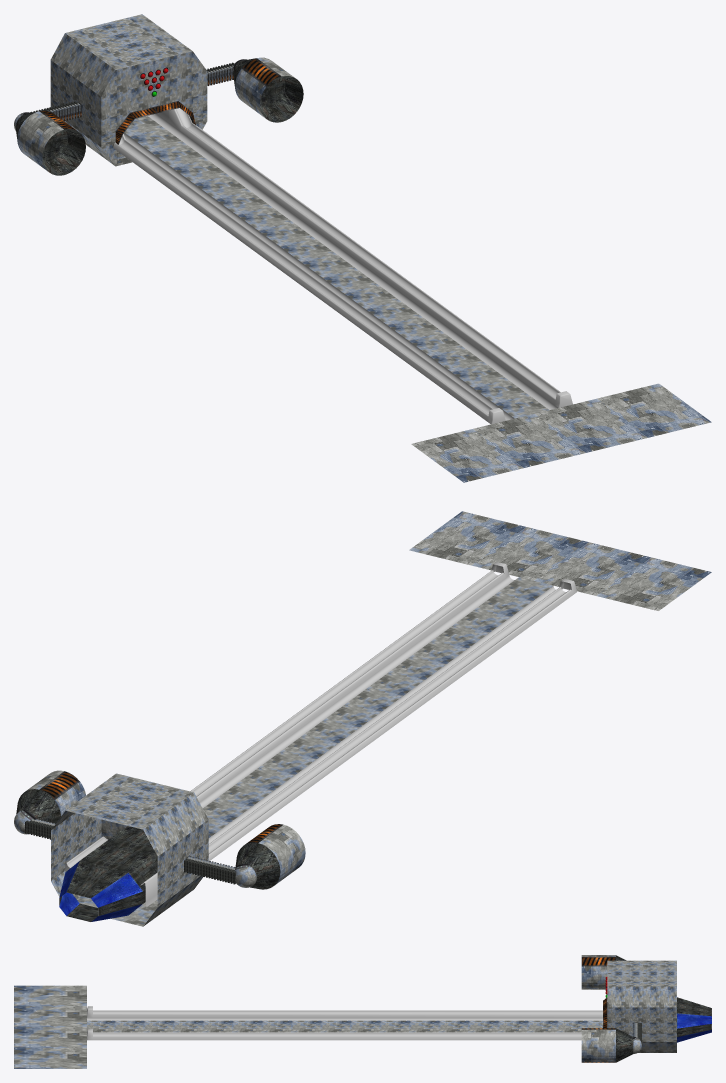
File: Alley_Cosmic.fbx
The picture shows the model from 3 angles, top to bottom: view 1: azimuth 30°, elevation 25°; view 2: azimuth 150°, elevation 25°; view 3: azimuth 270°, elevation 25°; orthographic projection. The views are drawn at different scales.
Parts seen in each view (by area): view 1: Ship, lane, approach, ALLEYframe2xtrareturns, returnchannelr, Engine, gutterr, gutterl, Gate; view 2: Ship, approach, lane, returnchannelr, ALLEYframe2xtrareturns, Engine, gutterr, gutterl, Gate; view 3: Ship, lane, approach, ALLEYframe2xtrareturns, returnchannelr, Engine, gutterl, gutterr.
Boxes of the visible parts, bbox=[...] form: Ship: bbox=[50, 14, 207, 166]; lane: bbox=[124, 116, 549, 418]; approach: bbox=[411, 383, 711, 482]; ALLEYframe2xtrareturns: bbox=[156, 108, 572, 407]; returnchannelr: bbox=[113, 134, 505, 424]; Engine: bbox=[14, 57, 303, 175]; gutterr: bbox=[147, 113, 557, 409]; gutterl: bbox=[123, 133, 514, 420]; Gate: bbox=[30, 62, 234, 121]; Ship: bbox=[51, 773, 208, 926]; approach: bbox=[409, 511, 711, 610]; lane: bbox=[203, 577, 553, 837]; returnchannelr: bbox=[140, 578, 576, 906]; ALLEYframe2xtrareturns: bbox=[65, 562, 509, 871]; Engine: bbox=[14, 770, 305, 889]; gutterr: bbox=[199, 575, 514, 808]; gutterl: bbox=[208, 586, 562, 843]; Gate: bbox=[25, 818, 236, 884]; Ship: bbox=[603, 960, 711, 1052]; lane: bbox=[87, 1020, 602, 1032]; approach: bbox=[14, 985, 86, 1068]; ALLEYframe2xtrareturns: bbox=[87, 1028, 581, 1040]; returnchannelr: bbox=[87, 1006, 602, 1017]; Engine: bbox=[581, 955, 641, 1062]; gutterl: bbox=[87, 1017, 602, 1020]; gutterr: bbox=[93, 1032, 581, 1032].
Size of the model in its own units: 120000 by 42341 by 403770.
